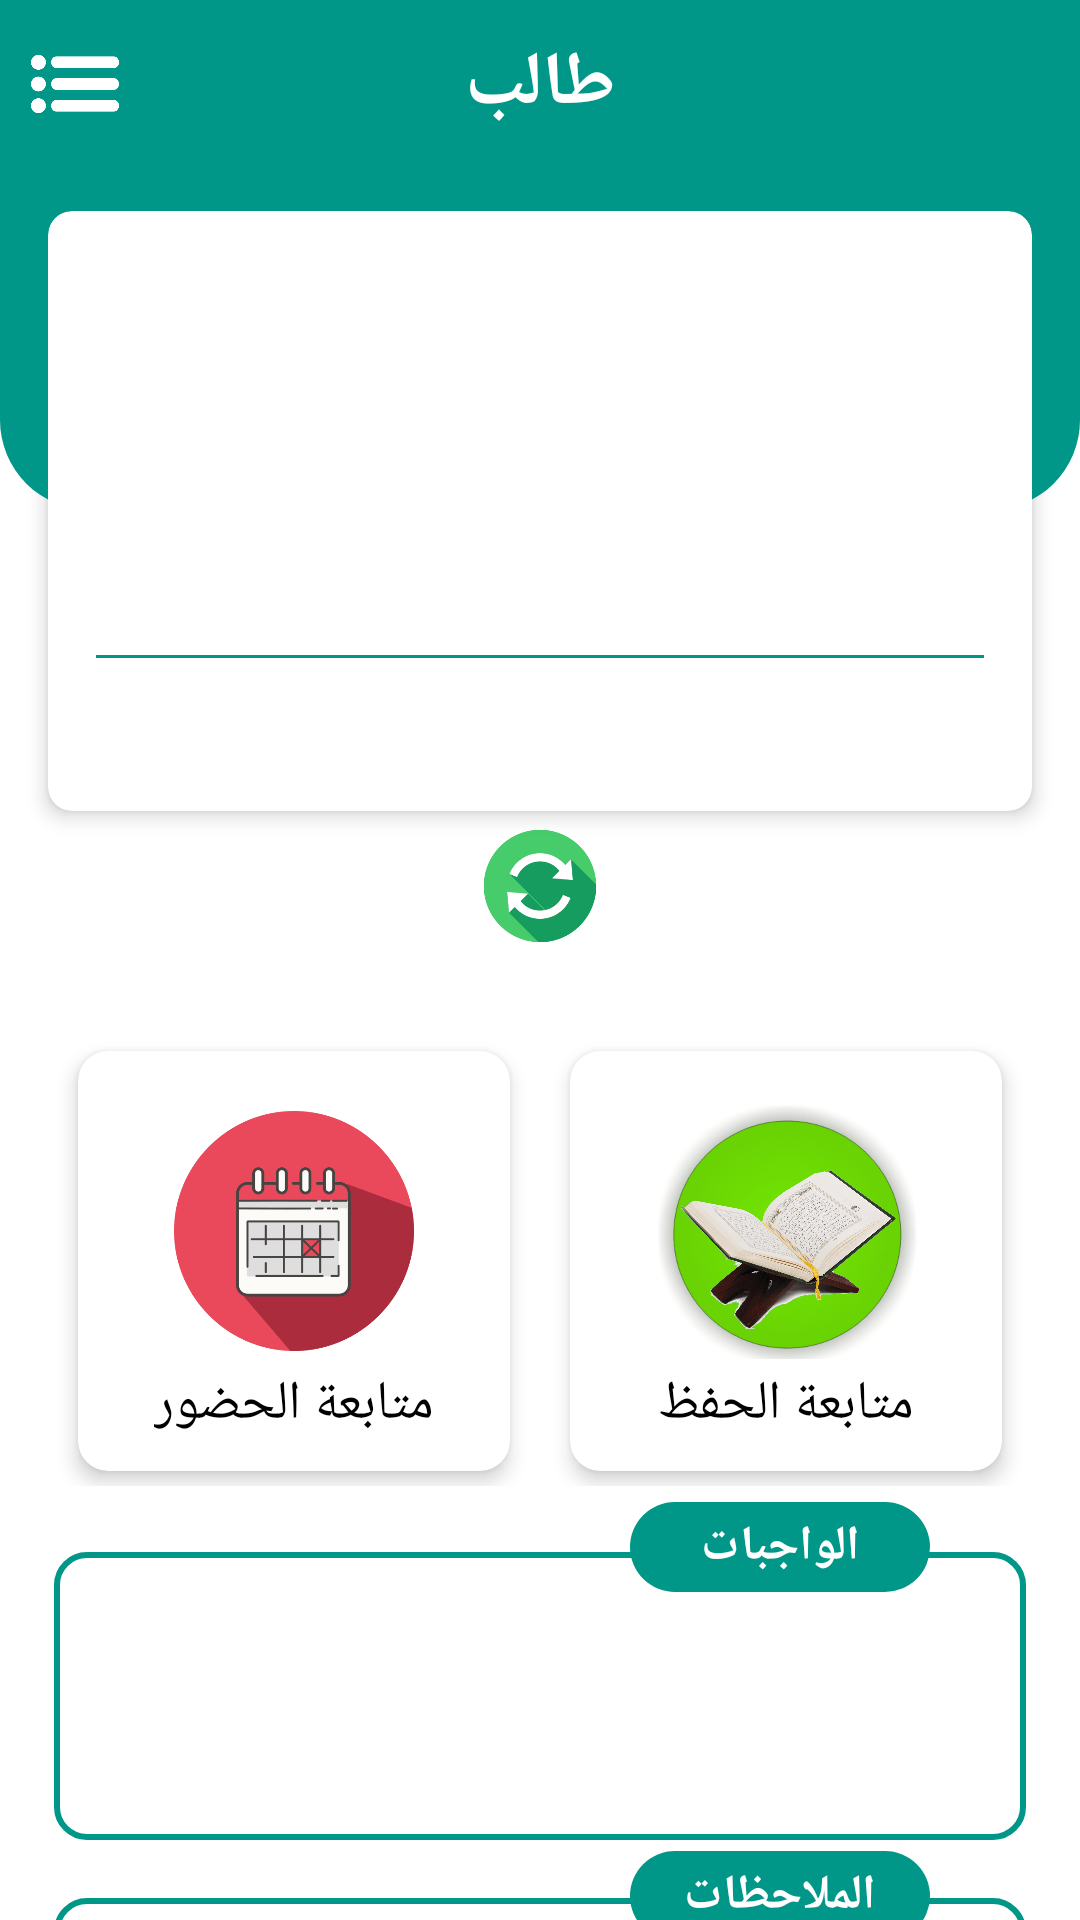

Screen size 1080x1920. Icon name, then its box in pixels as (x1, y1, x2, y2):
calender: (174, 1111, 414, 1351)
Options Menu: (31, 55, 119, 113)
update: (484, 830, 596, 942)
